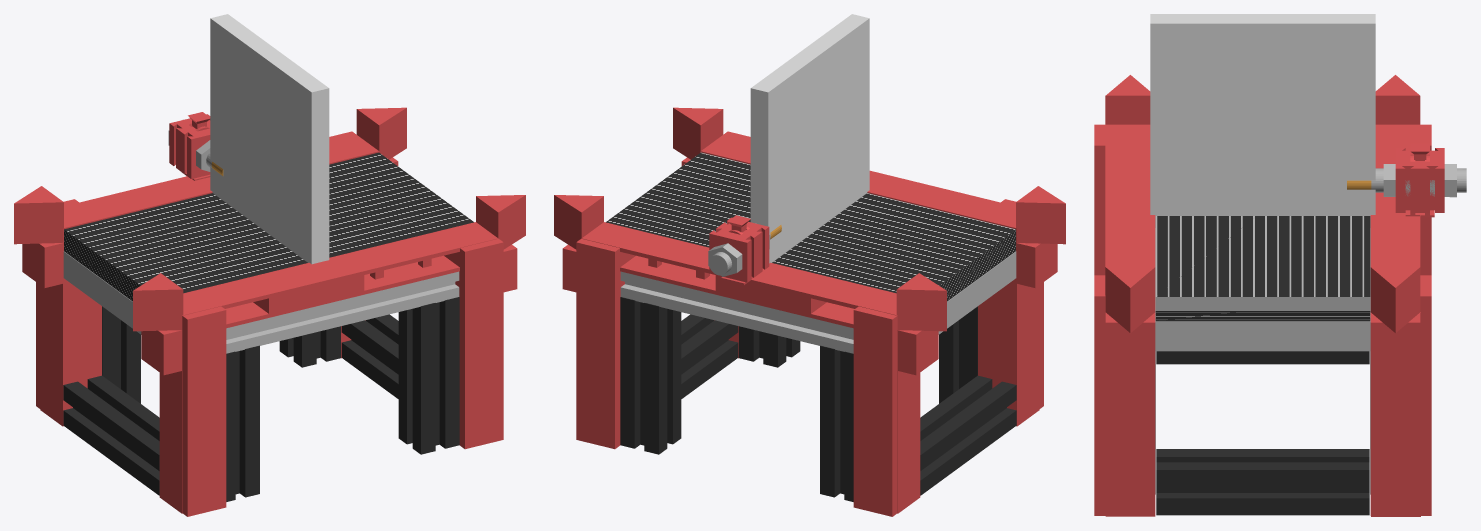
Rendered from Conveyor_Belt.glb.
The picture shows the model from 3 angles, left to right: view 1: azimuth 30°, elevation 25°; view 2: azimuth 150°, elevation 25°; view 3: azimuth 270°, elevation 25°; orthographic projection. The views are drawn at different scales.
Parts seen in each view (by area): view 1: Belt, TriggerZone, Cube.013, Cube.014, Cube.015, Cube.021, Cube.002, Cube.023, Cube.016, Cube.011, Cube.001, Cube.022 (+14 smaller); view 2: Belt, TriggerZone, Cube.012, Cube.011, Cube.018, Cube.021, Cube.023, Cube.001, Cube.017, Cube.002, Cube.014, Cube.022 (+14 smaller); view 3: TriggerZone, Belt, Cube.022, Cube.009, Cube.010, Cube.021, Cube.002, Cube.001, Cube, Cube.023, Cube.013, Triangle.001 (+10 smaller).
Boxes of the visible parts, box(x1,y1,x2,y2) form: Belt: box(64, 152, 473, 301); TriggerZone: box(210, 14, 329, 264); Cube.013: box(444, 238, 503, 449); Cube.014: box(182, 306, 226, 516); Cube.015: box(398, 297, 459, 454); Cube.021: box(63, 251, 459, 353); Cube.002: box(182, 222, 498, 315); Cube.023: box(63, 375, 159, 495); Cube.016: box(226, 345, 259, 501); Cube.011: box(36, 199, 101, 410); Cube.001: box(63, 135, 379, 232); Cube.022: box(341, 314, 398, 398); Belt: box(606, 152, 1015, 301); TriggerZone: box(750, 14, 869, 263); Cube.012: box(576, 238, 635, 449); Cube.011: box(853, 306, 897, 516); Cube.018: box(620, 297, 681, 454); Cube.021: box(620, 251, 1016, 353); Cube.023: box(920, 375, 1016, 495); Cube.001: box(581, 222, 897, 315); Cube.017: box(820, 345, 853, 501); Cube.002: box(700, 135, 1016, 232); Cube.014: box(978, 199, 1043, 410); Cube.022: box(681, 314, 738, 398); TriggerZone: box(1150, 14, 1375, 227); Belt: box(1155, 216, 1370, 321); Cube.022: box(1156, 449, 1369, 515); Cube.009: box(1105, 312, 1155, 516); Cube.010: box(1371, 312, 1420, 516); Cube.021: box(1155, 228, 1370, 351); Cube.002: box(1105, 124, 1155, 299); Cube.001: box(1370, 124, 1420, 266); Cube: box(1395, 143, 1444, 212); Cube.023: box(1156, 351, 1369, 364); Cube.013: box(1094, 275, 1105, 515); Triangle.001: box(1105, 267, 1155, 332).
Bounding box in the file's own units: 4.48 × 4.03 × 3.3.
Materials: 10 (1 with a texture image).
